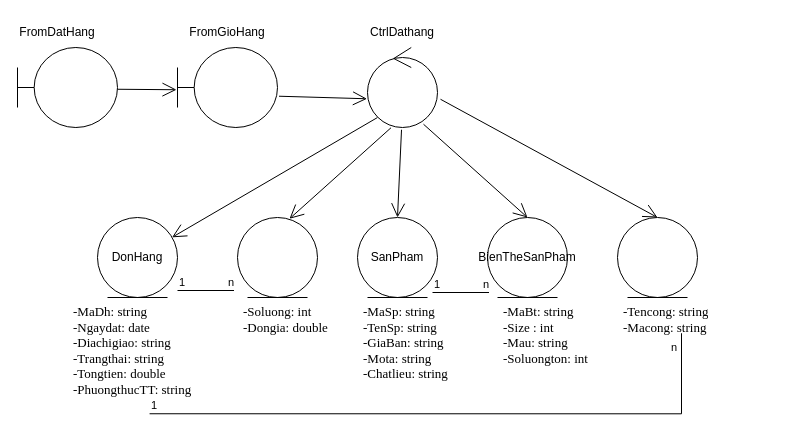
This 795x432 diagram has some shape labels left out. The shapes that lost their labels are listed below. From the top down, each one's centre as x and y in pixels, then its label:
At (x=277, y=257): "ChitietDonHang".
At (x=657, y=257): "CongThanhToan".
